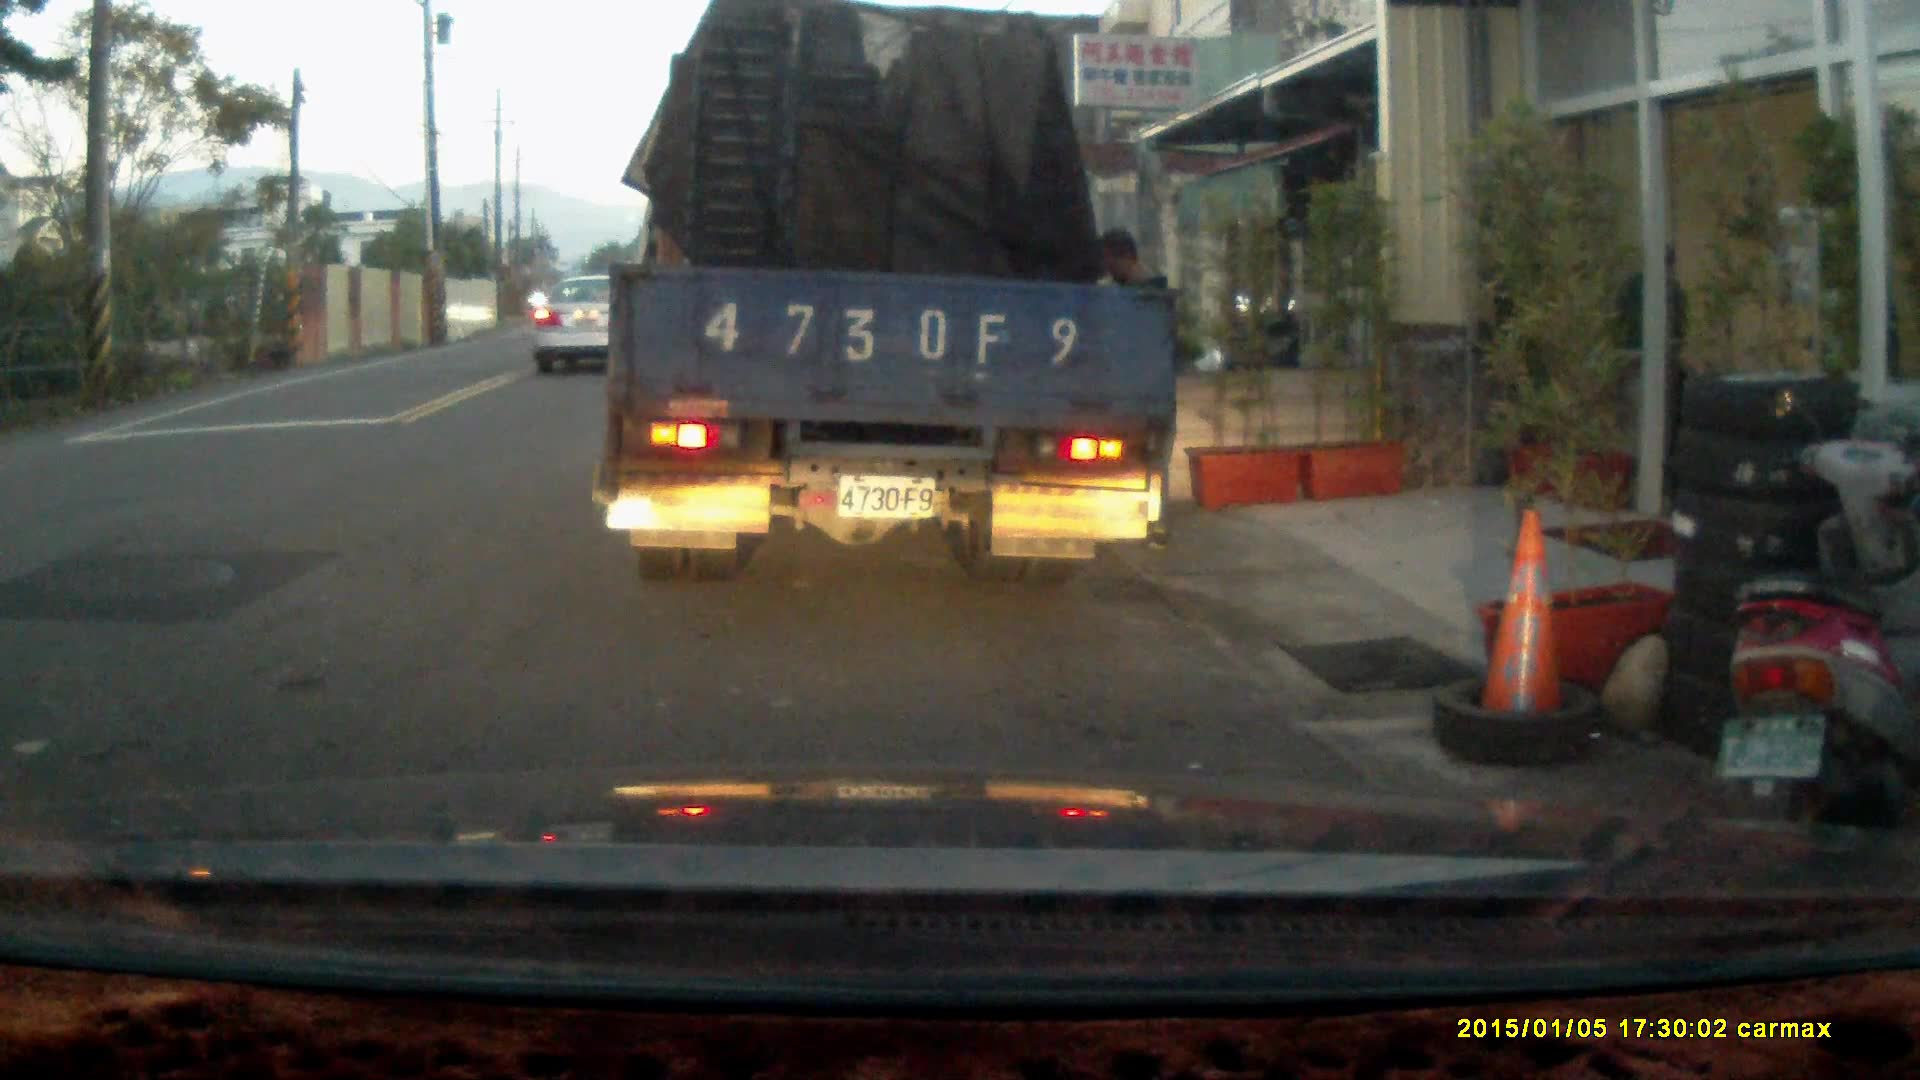pedestrian: (1079, 225, 1176, 554), (1607, 237, 1686, 480)
vehicle: (605, 23, 1188, 572), (534, 272, 627, 371)
